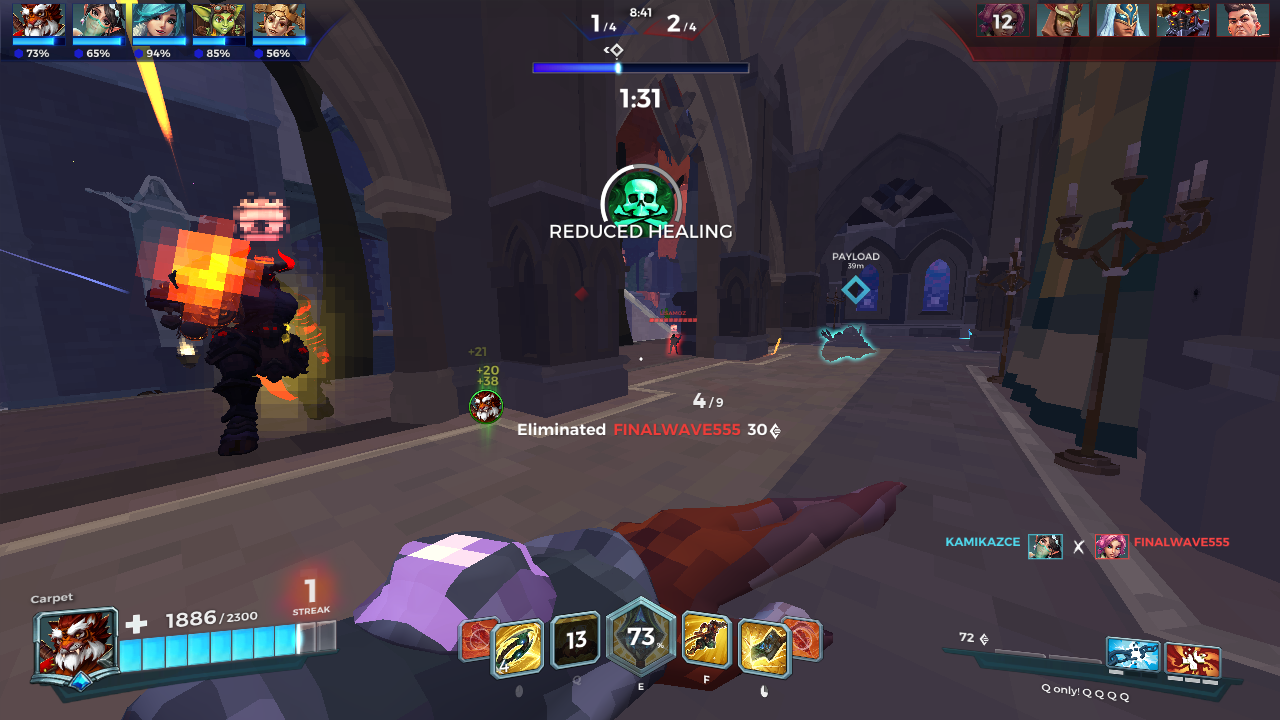model: (668, 329, 681, 358)
